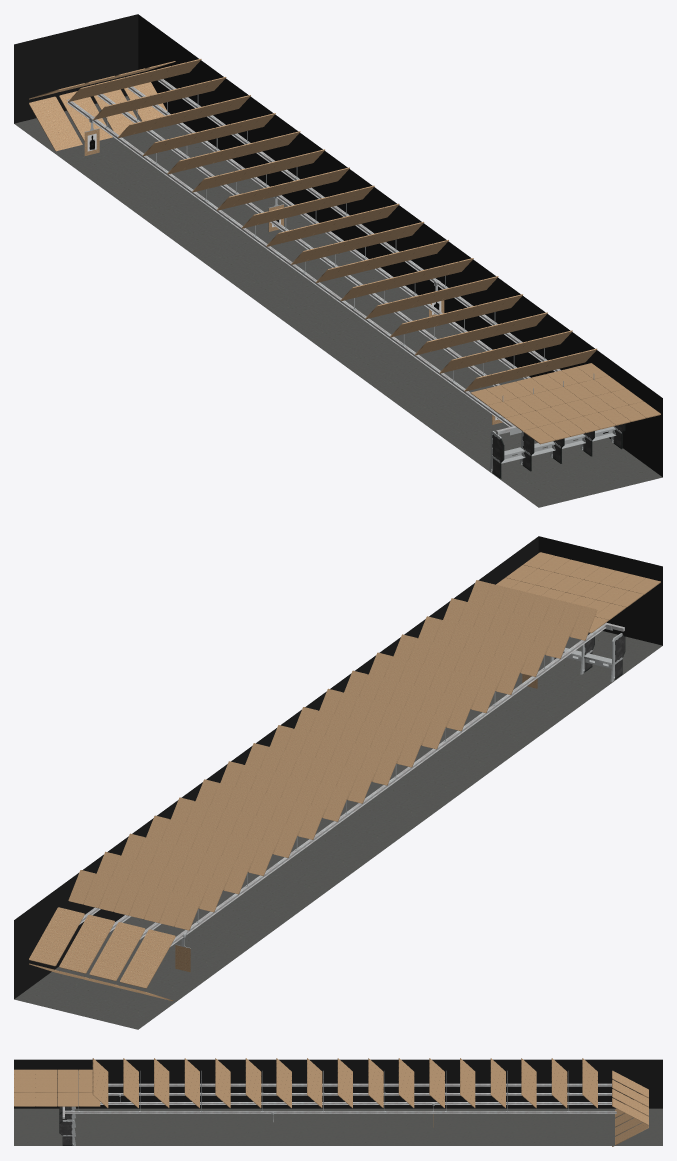
Rendered from ShootingRange.fbx.
3 views of the same model, one above another, from view 1: azimuth 30°, elevation 25°; view 2: azimuth 150°, elevation 25°; view 3: azimuth 270°, elevation 25° (orthographic). The views are drawn at different scales.
Parts seen in each view (by area): view 1: Room, Cube.055, Cube.053, Cube.014, Cube.015, Cube.016, Cube.021, Cube.022; view 2: Room, Cube.055, Cube.054, Cube.019, Cube.017, Cube.018; view 3: Room, Cube.016, Cube.015, Cube.055, Cube.014, Cube.003, Cube.019, Cube.054, Cube.018, Cube.017, Cube.023, Cube.022.
Part boxes in pixels (x1,y1,x2,y2): Room: (14,14,662,507); Cube.055: (67,99,514,426); Cube.053: (29,96,82,151); Cube.014: (97,94,500,386); Cube.015: (127,86,530,378); Cube.016: (158,79,561,371); Cube.021: (59,91,112,141); Cube.022: (93,89,136,135); Room: (14,536,662,1029); Cube.055: (170,624,606,946); Cube.054: (29,907,84,966); Cube.019: (120,929,175,988); Cube.017: (59,914,114,973); Cube.018: (89,922,145,981); Room: (14,1059,662,1145); Cube.016: (65,1111,616,1113); Cube.015: (100,1102,611,1104); Cube.055: (108,1083,611,1086); Cube.014: (108,1093,611,1095); Cube.003: (59,1119,75,1145); Cube.019: (612,1070,648,1097); Cube.054: (612,1098,648,1125); Cube.018: (612,1079,648,1106); Cube.017: (612,1089,648,1115); Cube.023: (612,1122,648,1146); Cube.022: (615,1113,648,1135).
Size of the model in its own units: 840 by 541 by 6000.
8 materials, 7 textured.
